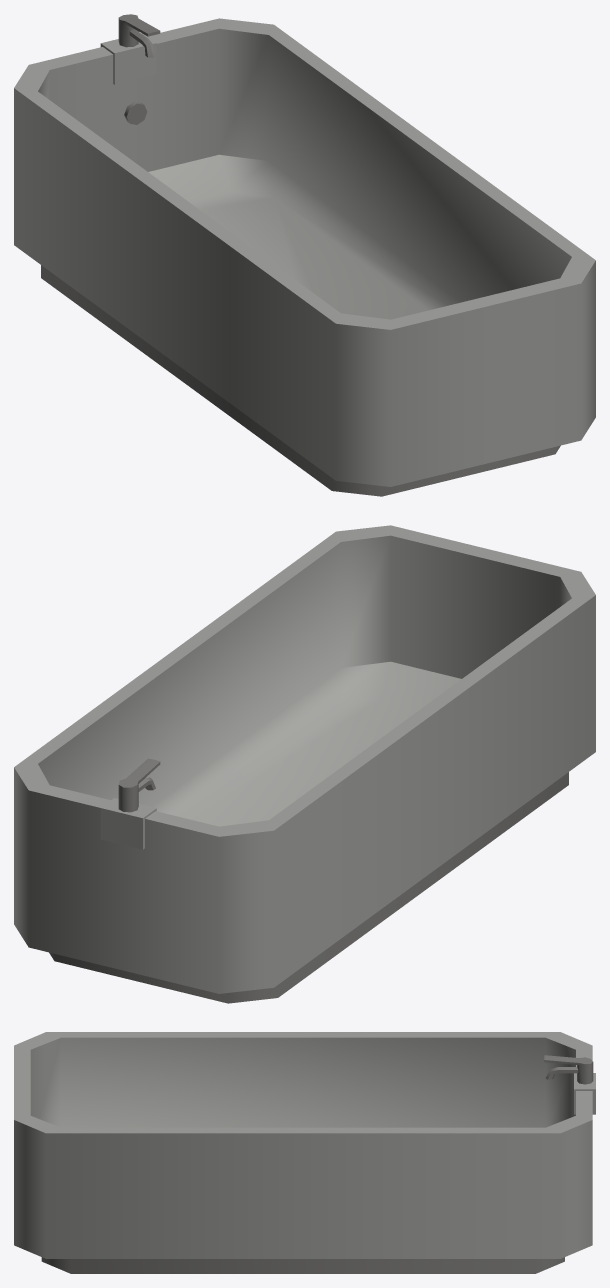
Rendered from Bathroom_Bathtub.glb.
3 views of the same model, one above another, from view 1: azimuth 30°, elevation 25°; view 2: azimuth 150°, elevation 25°; view 3: azimuth 270°, elevation 25° (orthographic). The views are drawn at different scales.
Parts seen in each view (by area): view 1: Bathroom_Bathtub; view 2: Bathroom_Bathtub; view 3: Bathroom_Bathtub.
Boxes of the visible parts, x1,y1,x2,y2 form: Bathroom_Bathtub: [14, 14, 595, 496]; Bathroom_Bathtub: [14, 525, 595, 1003]; Bathroom_Bathtub: [14, 1032, 595, 1273].
Bounding box in the file's own units: 0.7861 × 0.6162 × 1.91.
2 materials, 2 textured.
